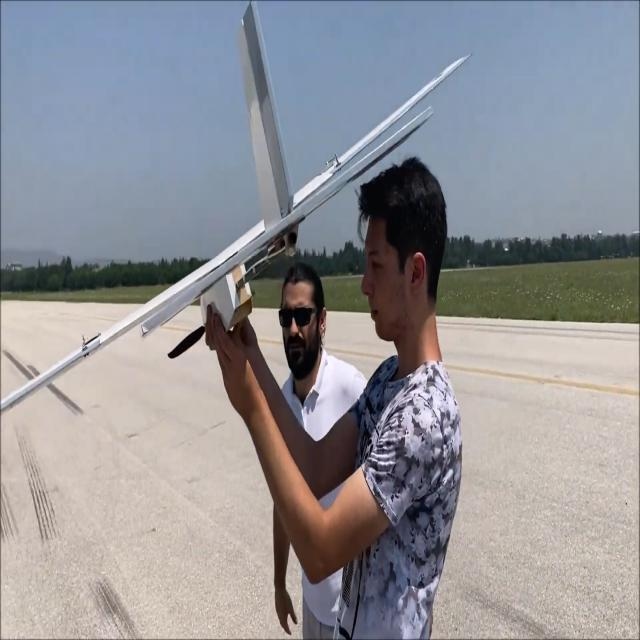iha: (8, 2, 472, 423)
